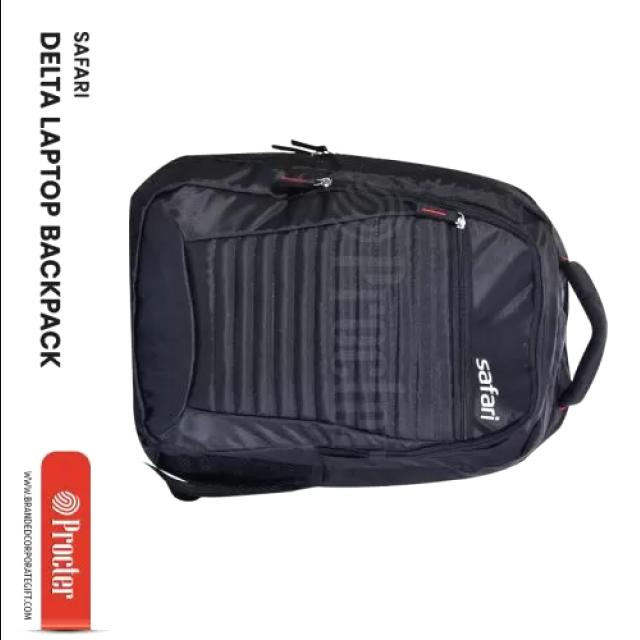backpack: (129, 141, 609, 503)
